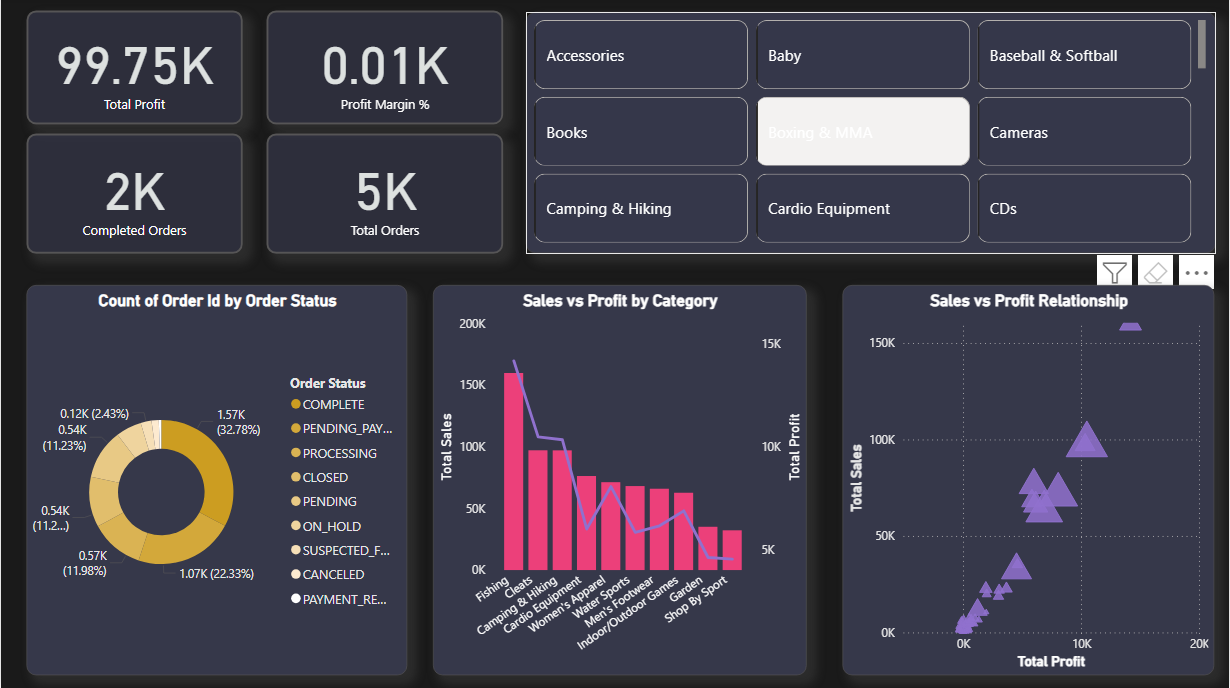

What the dashboard file says about the page in this screenshot:
{"tool":"powerbi","page":{"name":"Order & Profit Analysis","canvas":[1280,720],"ordinal":4},"visuals":[{"type":"card","fields":{"Values":["SupplyChain-Data.Total Profit"]},"box":[26.6,14.1,225.1,118.8],"z":0},{"type":"donutChart","fields":{"Category":["SupplyChain-Data.Order Status"],"Y":["CountNonNull(SupplyChain-Data.Order Id)"]},"box":[26.6,300.1,397,406.4],"z":1000},{"type":"advancedSlicerVisual","fields":{"Values":["SupplyChain-Data.Category Name"]},"box":[547,15.6,719,251.6],"z":2000},{"type":"card","fields":{"Values":["SupplyChain-Data.Completed Orders"]},"box":[26.6,142.2,225.1,125],"z":3000},{"type":"card","fields":{"Values":["SupplyChain-Data.Profit Margin %"]},"box":[276.6,14.1,247,118.8],"z":4000},{"type":"card","fields":{"Values":["SupplyChain-Data.Total Orders"]},"box":[276.6,142.2,247,125],"z":5000},{"type":"lineClusteredColumnComboChart","title":"Sales vs Profit by Category","fields":{"Category":["SupplyChain-Data.Category Name"],"Y":["SupplyChain-Data.Total Sales"],"Y2":["SupplyChain-Data.Total Profit"]},"box":[450.1,300.1,389.2,406.4],"z":6000},{"type":"scatterChart","title":"Sales vs Profit Relationship","fields":{"X":["SupplyChain-Data.Total Profit"],"Y":["SupplyChain-Data.Total Sales"],"Size":["SupplyChain-Data.Total Quantity"],"Category":["SupplyChain-Data.Category Name"]},"box":[876.8,300.1,387.6,406.4],"z":7000}]}

Visuals, with their boxes in screenshot pixels (x1, y1, x2, y2), scaled from the page's 1280x720 canvas onto the 1230x688 screenshot:
card - SupplyChain-Data.Total Profit: 26,13,242,127
donutChart - SupplyChain-Data.Order Status x CountNonNull(SupplyChain-Data.Order Id): 26,287,407,675
advancedSlicerVisual - SupplyChain-Data.Category Name: 526,15,1217,255
card - SupplyChain-Data.Completed Orders: 26,136,242,255
card - SupplyChain-Data.Profit Margin %: 266,13,503,127
card - SupplyChain-Data.Total Orders: 266,136,503,255
"Sales vs Profit by Category" lineClusteredColumnComboChart: 433,287,807,675
"Sales vs Profit Relationship" scatterChart: 843,287,1215,675
